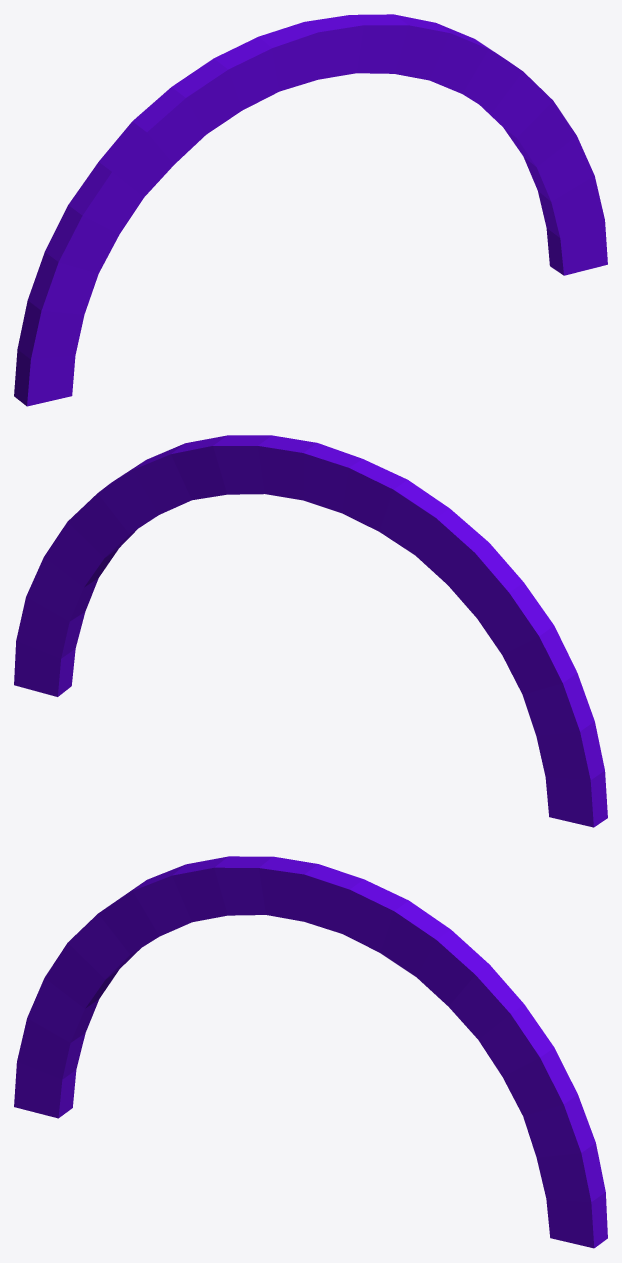
Rendered from Stone_Arc_01.fbx.
3 renders of one model, top to bottom at view 1: azimuth 30°, elevation 25°; view 2: azimuth 150°, elevation 25°; view 3: azimuth 330°, elevation 25°, orthographic.
Visible parts, largest first — view 1: Stone_Arc_01; view 2: Stone_Arc_01; view 3: Stone_Arc_01.
Boxes of the visible parts, x1,y1,x2,y2 form: Stone_Arc_01: (14, 14, 607, 406); Stone_Arc_01: (14, 435, 607, 827); Stone_Arc_01: (14, 856, 607, 1248).
Size of the model in its own units: 1038 by 520 by 46.4.
